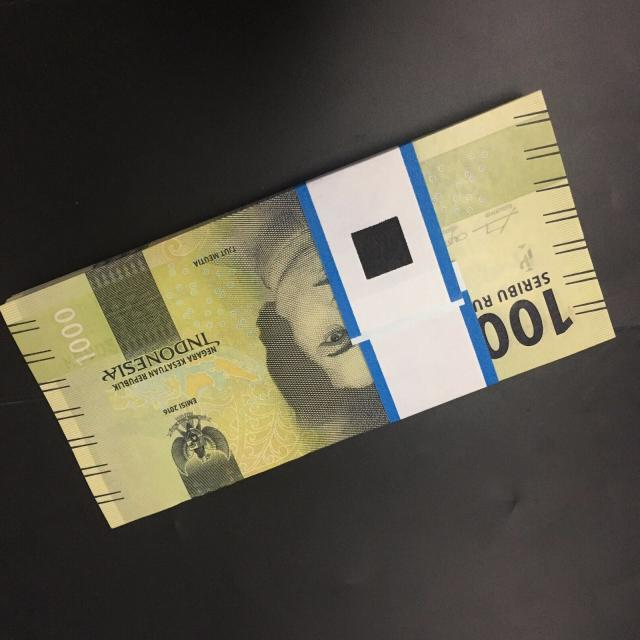1000IndonesianRupiah: (6, 123, 610, 518)
